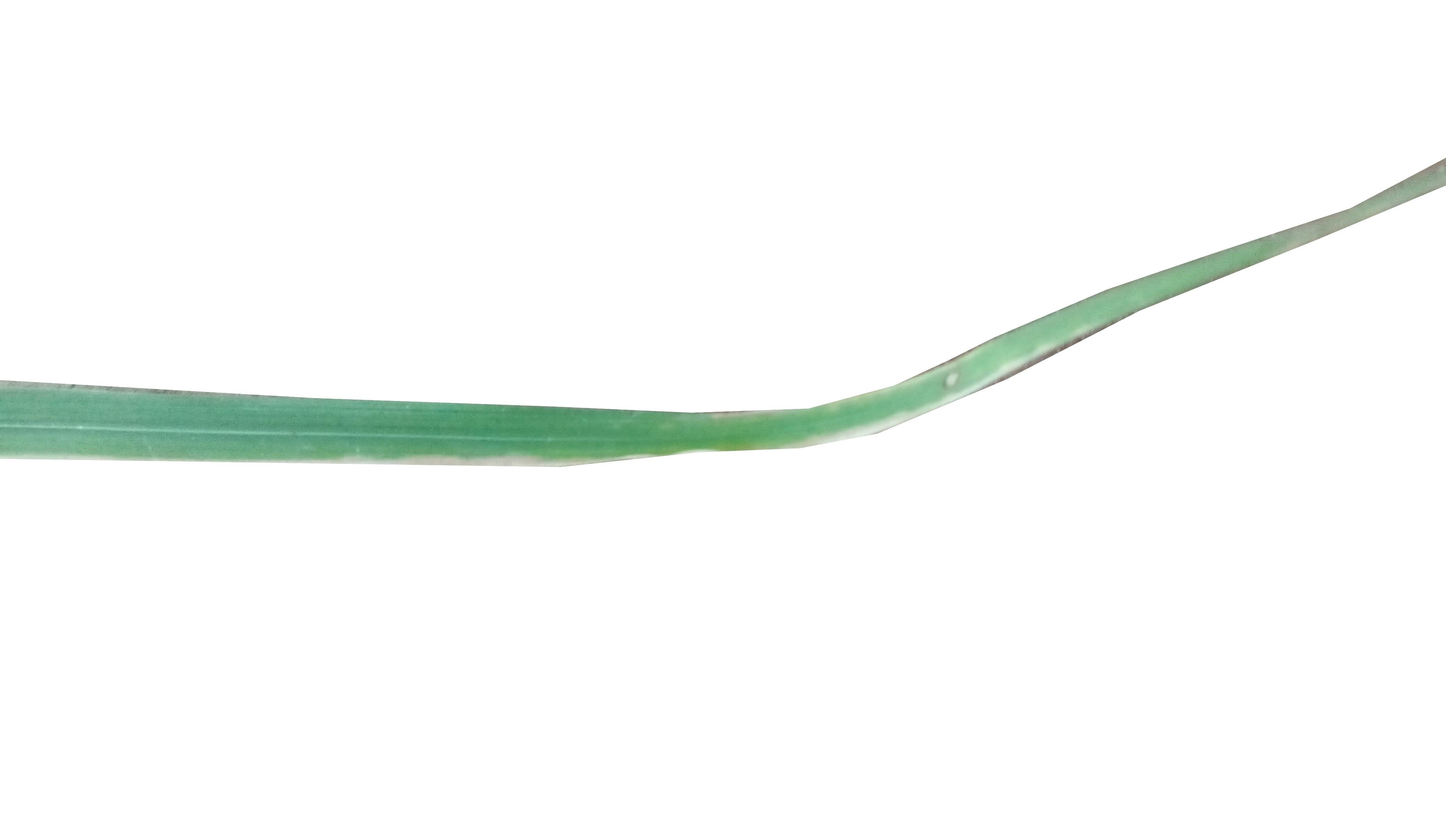Blight: (932, 373, 973, 400)
